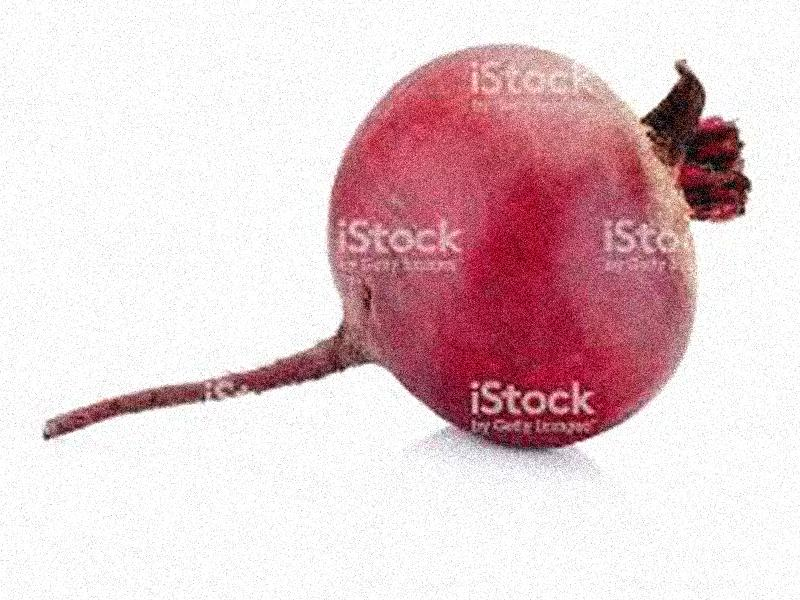Beet: (46, 47, 748, 448)
